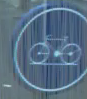bike lane: (11, 4, 84, 87)
